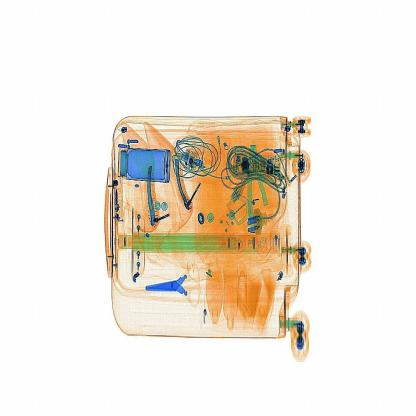gun: (139, 269, 194, 304)
